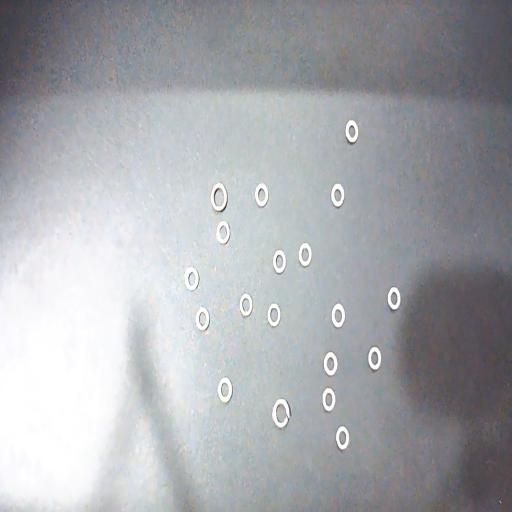washer: (272, 398, 290, 429), (211, 182, 228, 212), (331, 303, 346, 328), (184, 266, 199, 291), (255, 182, 269, 208), (218, 378, 232, 403), (368, 346, 382, 371), (239, 293, 253, 318), (196, 307, 210, 332), (324, 352, 338, 376), (267, 303, 281, 327), (216, 220, 230, 244), (298, 243, 312, 267), (331, 184, 345, 208), (336, 426, 349, 450), (322, 388, 335, 412), (273, 250, 286, 274), (345, 120, 358, 144), (388, 286, 400, 310)
